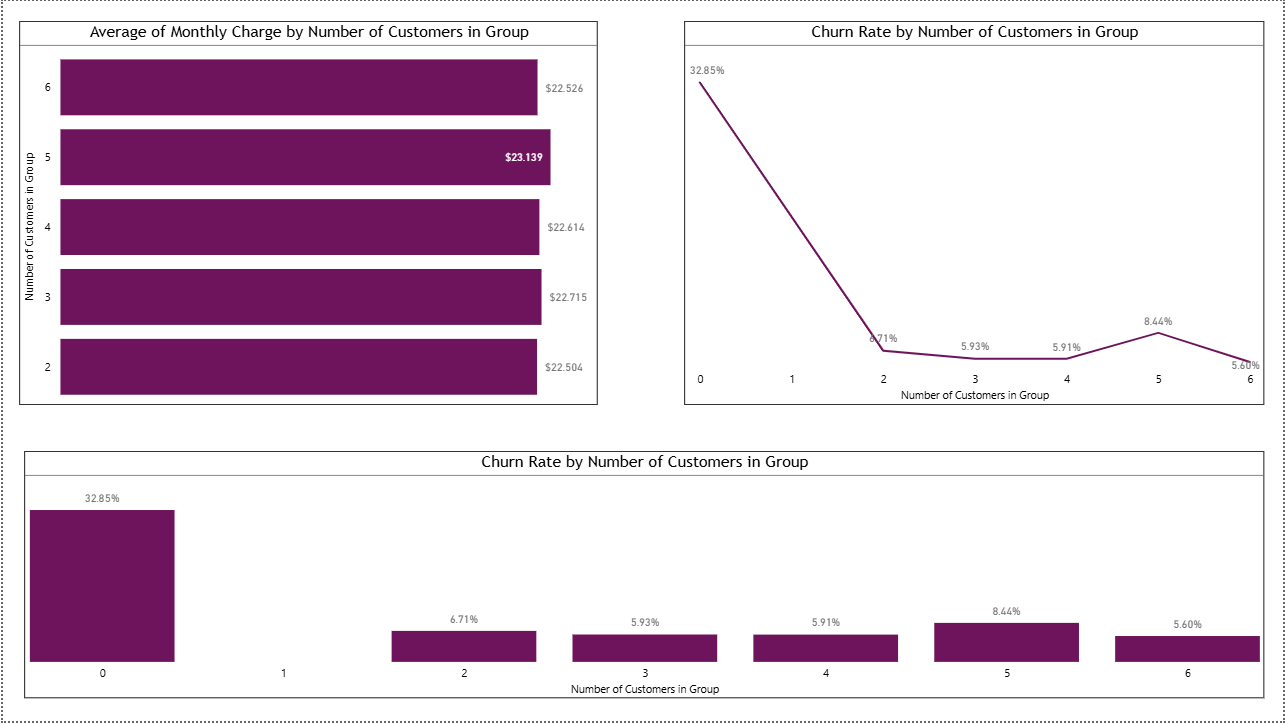

Layout of this report page (visuals, bound fields, positions):
{"tool":"powerbi","page":{"name":"Inspecting Groups","canvas":[1280,720],"ordinal":6},"visuals":[{"type":"barChart","fields":{"Category":["Databel - Data.Number of Customers in Group"],"Y":["Avg(Databel - Data.Monthly Charge)"]},"box":[16.2,20,578.8,383.8],"z":0},{"type":"lineChart","fields":{"Category":["Databel - Data.Number of Customers in Group"],"Y":["Databel - Data.Churn Rate"]},"box":[681.2,20,580,383.8],"z":1000},{"type":"columnChart","fields":{"Category":["Databel - Data.Number of Customers in Group"],"Y":["Databel - Data.Churn Rate"]},"box":[21.2,450,1240,247.5],"z":2000}]}

Visuals, with their boxes in screenshot pixels (x1, y1, x2, y2), scaled from the page's 1280x720 canvas onto the 1285x723 screenshot:
barChart - Databel - Data.Number of Customers in Group x Avg(Databel - Data.Monthly Charge): bbox(16, 20, 597, 405)
lineChart - Databel - Data.Number of Customers in Group x Databel - Data.Churn Rate: bbox(684, 20, 1266, 405)
columnChart - Databel - Data.Number of Customers in Group x Databel - Data.Churn Rate: bbox(21, 452, 1266, 700)
